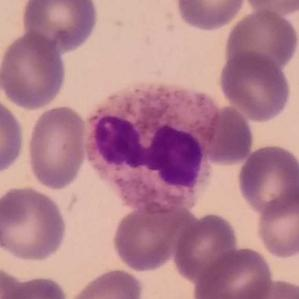Neutrophil: (78, 81, 224, 214)
RBC: (108, 201, 195, 273), (25, 103, 89, 191), (217, 49, 293, 123), (0, 30, 69, 111), (1, 183, 69, 264), (171, 211, 241, 286), (222, 8, 298, 74), (235, 142, 299, 217), (192, 245, 276, 299), (19, 0, 101, 54), (197, 104, 255, 166), (254, 185, 299, 261), (66, 266, 146, 299), (172, 0, 248, 32), (0, 94, 27, 178), (1, 273, 70, 299), (237, 276, 299, 299), (0, 265, 32, 299), (243, 0, 299, 17)
